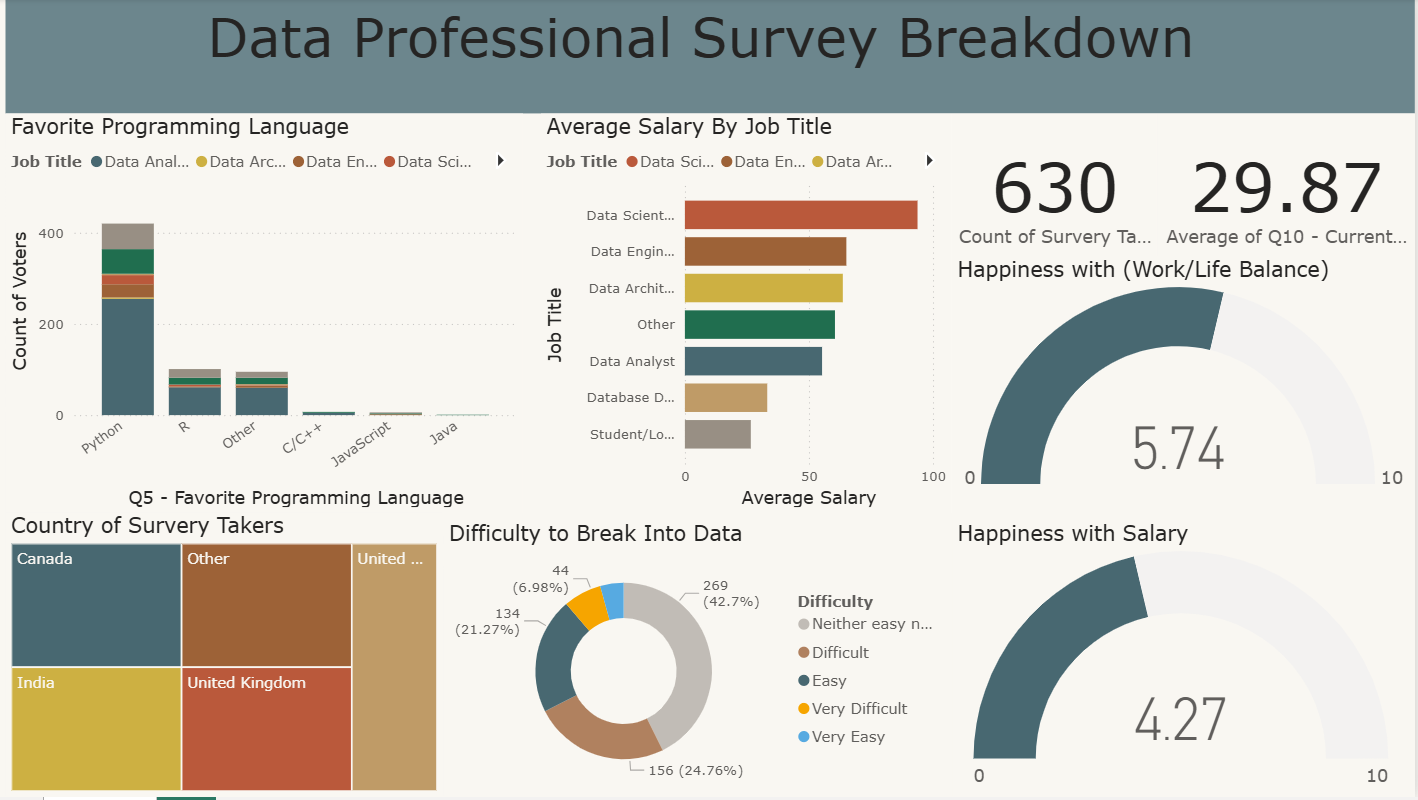

The page's visual inventory and layout, read from the dashboard file:
{"tool":"powerbi","page":{"name":"Page 1","canvas":[1280,720],"ordinal":0},"visuals":[{"type":"textbox","box":[9.4,0,1269.9,103.9],"z":0},{"type":"card","fields":{"Values":["Count(Data Professional Survey.Unique ID)"]},"box":[862.5,104.2,184.9,144.6],"z":1000},{"type":"card","fields":{"Values":["Avg(Data Professional Survey.Q10 - Current Age)"]},"box":[1047.4,104.2,232,144.6],"z":2000},{"type":"barChart","title":"Average Salary By Job Title","fields":{"Category":["Data Professional Survey.Q1 - Which Title Best Fits your Current Role?.1"],"Y":["Avg(Data Professional Survey.Avg Salary)"],"Series":["Data Professional Survey.Q1 - Which Title Best Fits your Current Role?.1"]},"box":[492.6,104.2,369.9,359.8],"z":3000},{"type":"columnChart","title":"Favorite Programming Language","fields":{"Category":["Data Professional Survey.Q5 - Favorite Programming Language.1"],"Y":["CountNonNull(Data Professional Survey.Unique ID)"],"Series":["Data Professional Survey.Q1 - Which Title Best Fits your Current Role?.1"]},"box":[10.1,104.2,465.7,359.8],"z":4000},{"type":"treemap","title":"Country of Survery Takers","fields":{"Group":["Data Professional Survey.Q11 - Which Country do you live in?.1"],"Values":["Count(Data Professional Survey.Q11 - Which Country do you live in?.1)"]},"box":[10.1,464,393.4,255.6],"z":5000},{"type":"gauge","title":"Happiness with (Work/Life Balance)","fields":{"Y":["Avg(Data Professional Survey.Q6 - How Happy are you in your Current Position with the following? (Work/Life Balance))"],"MinValue":["Min(Data Professional Survey.Q6 - How Happy are you in your Current Position with the following? (Work/Life Balance))"],"MaxValue":["Max(Data Professional Survey.Q6 - How Happy are you in your Current Position with the following? (Work/Life Balance))1"]},"box":[862.5,232,417,215.2],"z":6000},{"type":"gauge","title":"Happiness with Salary","fields":{"Y":["Avg(Data Professional Survey.Q6 - How Happy are you in your Current Position with the following? (Salary))"],"MinValue":["Min(Data Professional Survey.Q6 - How Happy are you in your Current Position with the following? (Salary))"],"MaxValue":["Max(Data Professional Survey.Q6 - How Happy are you in your Current Position with the following? (Salary))"]},"box":[862.5,470.8,411.9,248.8],"z":7000},{"type":"donutChart","title":"Difficulty to Break Into Data","fields":{"Category":["Data Professional Survey.Q7 - How difficult was it for you to break into Data?"],"Y":["CountNonNull(Data Professional Survey.Q7 - How difficult was it for you to break into Data?)"]},"box":[403.5,470.8,459,248.8],"z":8000}]}

Visuals, with their boxes in screenshot pixels (x1, y1, x2, y2), scaled from the page's 1280x720 canvas onto the 1418x800 screenshot:
textbox: {"left": 10, "top": 0, "right": 1417, "bottom": 115}
card - Count(Data Professional Survey.Unique ID): {"left": 955, "top": 116, "right": 1160, "bottom": 276}
card - Avg(Data Professional Survey.Q10 - Current Age): {"left": 1160, "top": 116, "right": 1417, "bottom": 276}
"Average Salary By Job Title" barChart: {"left": 546, "top": 116, "right": 955, "bottom": 516}
"Favorite Programming Language" columnChart: {"left": 11, "top": 116, "right": 527, "bottom": 516}
"Country of Survery Takers" treemap: {"left": 11, "top": 516, "right": 447, "bottom": 799}
"Happiness with (Work/Life Balance)" gauge: {"left": 955, "top": 258, "right": 1417, "bottom": 497}
"Happiness with Salary" gauge: {"left": 955, "top": 523, "right": 1412, "bottom": 799}
"Difficulty to Break Into Data" donutChart: {"left": 447, "top": 523, "right": 955, "bottom": 799}
